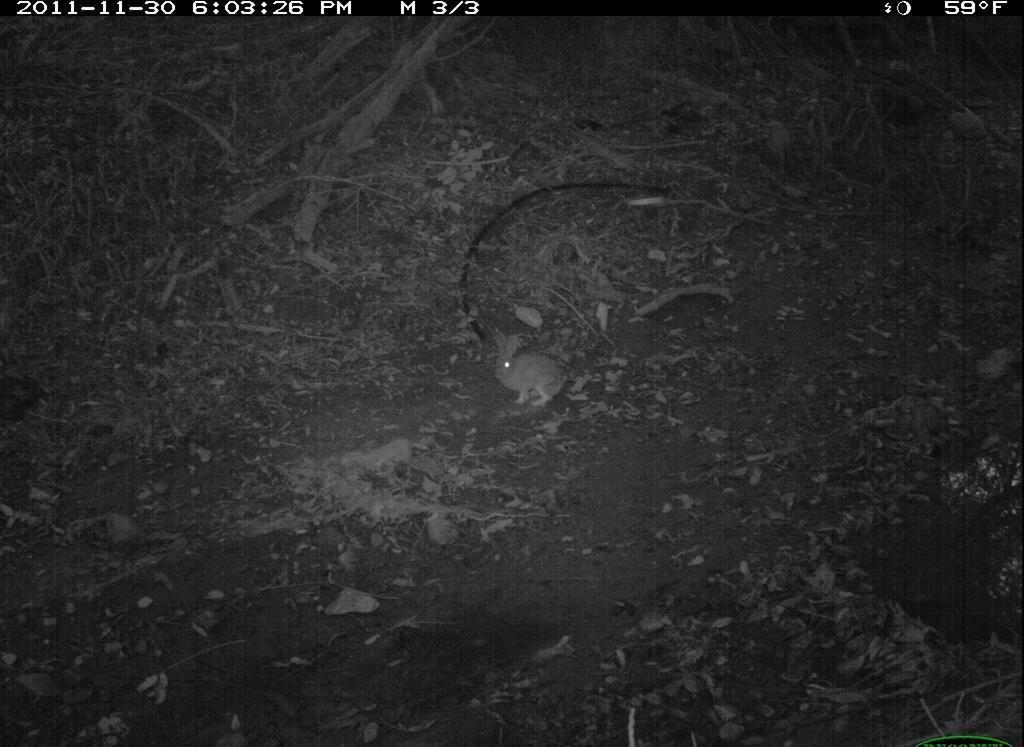rabbit: (482, 318, 583, 417)
